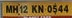character: (5, 5, 12, 13), (31, 4, 37, 13), (37, 4, 43, 13), (12, 5, 18, 13), (23, 5, 28, 13), (47, 5, 52, 12), (52, 5, 57, 12), (58, 5, 63, 12), (64, 5, 69, 12), (19, 5, 23, 13)
